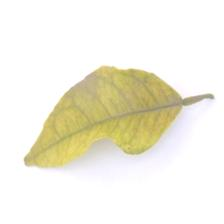greening: (44, 102, 177, 174)
